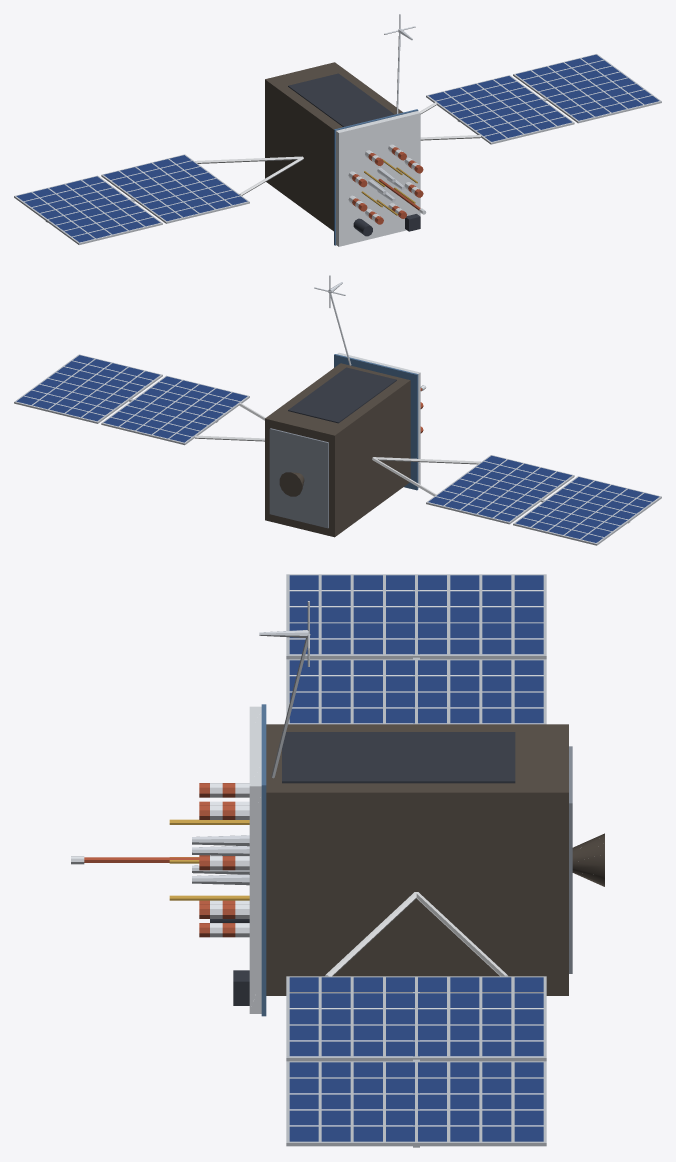
File: gps-iii.glb
3 renders of one model, top to bottom at view 1: azimuth 30°, elevation 25°; view 2: azimuth 150°, elevation 25°; view 3: azimuth 270°, elevation 25°, orthographic. The views are drawn at different scales.
Parts seen in each view (by area): view 1: body, solar-panel; view 2: body, solar-panel; view 3: body, solar-panel.
Boxes of the visible parts, x1,y1,x2,y2 form: body: (14,14,661,246); solar-panel: (16,54,659,242); body: (14,275,661,545); solar-panel: (16,355,659,542); body: (71,574,604,1147); solar-panel: (289,575,543,1141).
Bounding box in the file's own units: 15 × 5.02 × 5.95.
